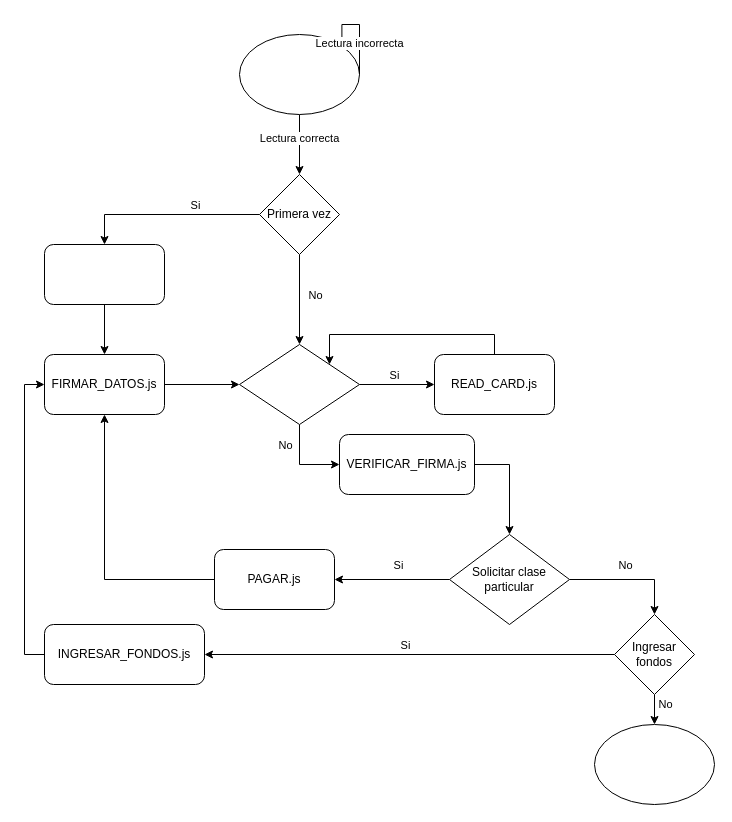
The diagram is 732 pixels wide and 822 high, and some of its shapes have lost their labels. Each missing label, with the centre of its shape:
"ALTA_USER.js" belongs at pixel 104 274.
"Inserción de tarjeta" belongs at pixel 299 74.
"Retirar tarjeta (FIN)" belongs at pixel 654 764.
"Ver mis datos" belongs at pixel 299 384.
